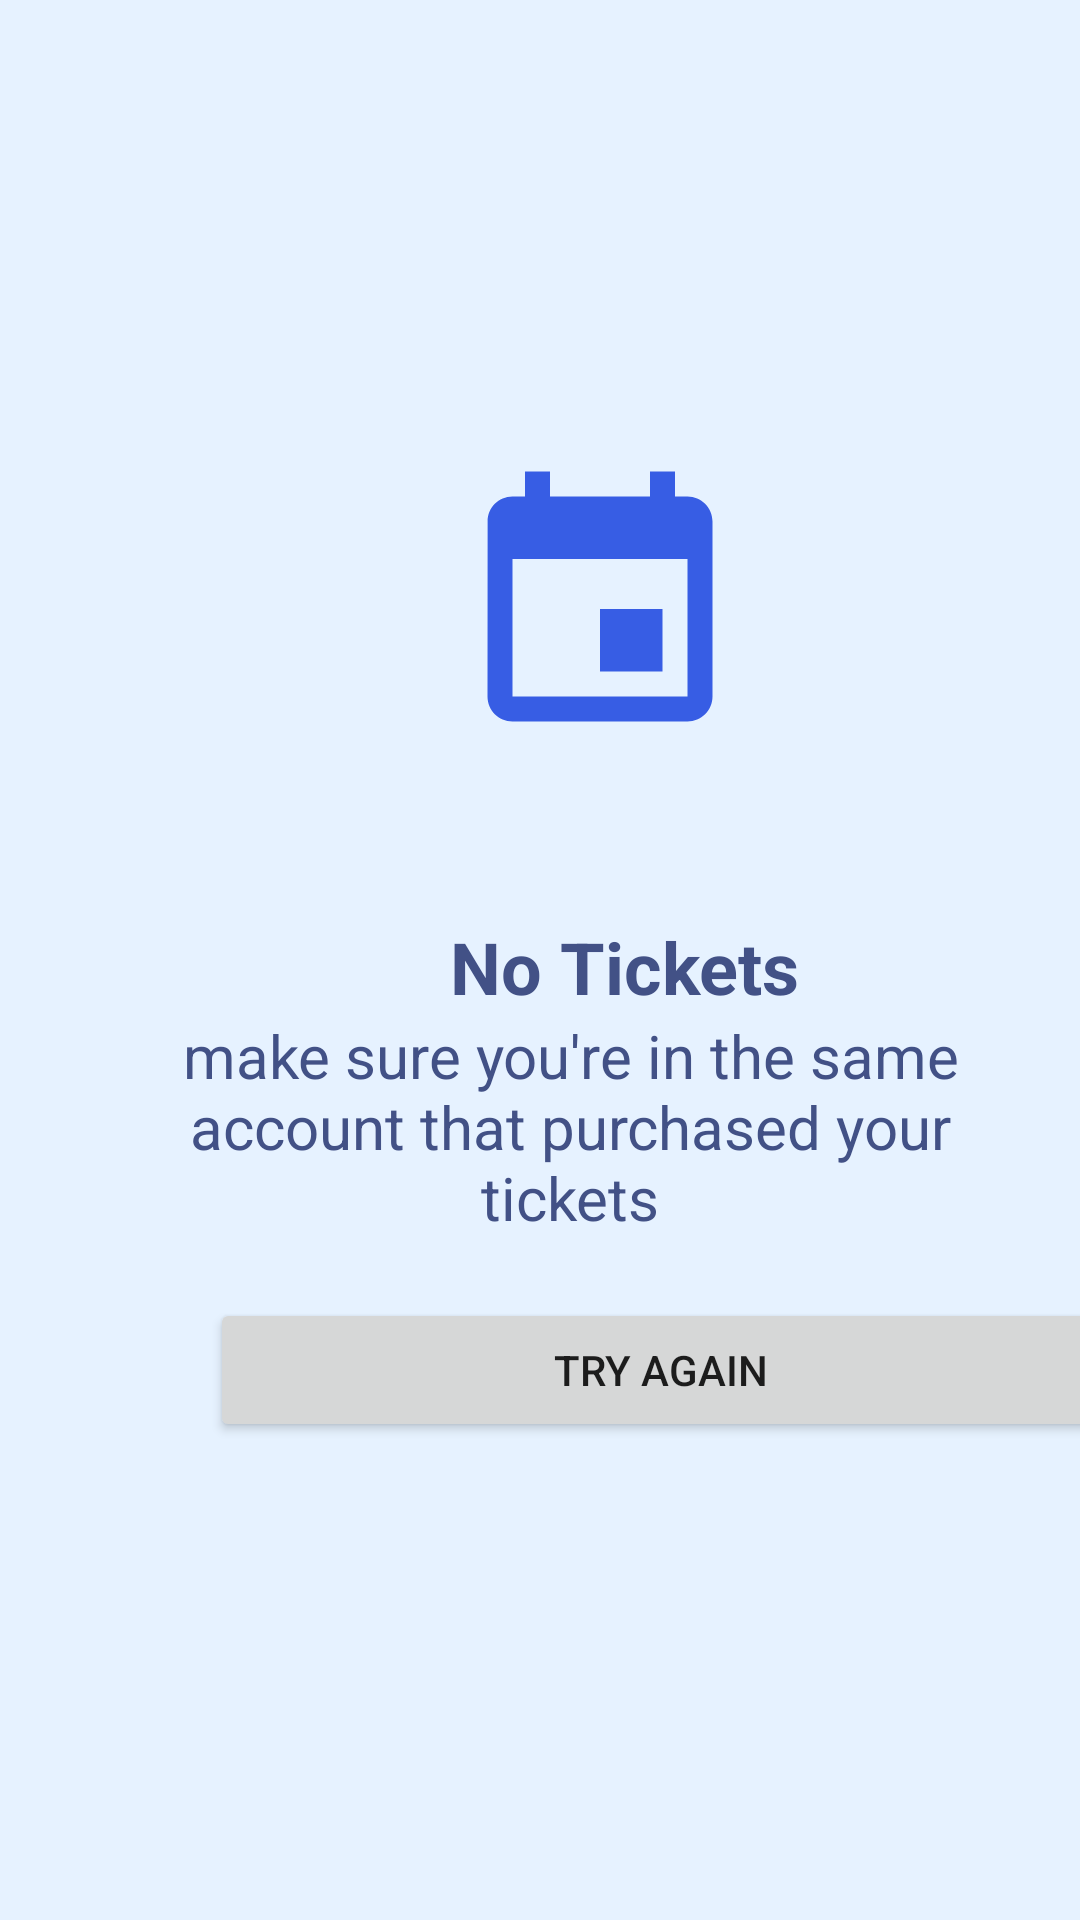

Screen size 1080px×1920px. Icon name, then its box in pixels as (x1, y1, x2, y2):
event: (487, 471, 713, 722)
